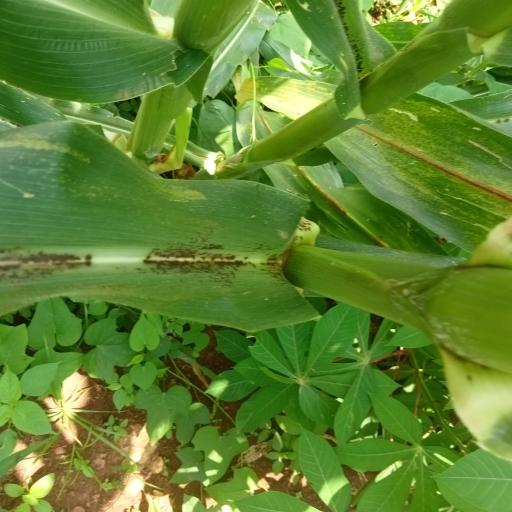Corn_Brown_Spots: (1, 127, 304, 330), (342, 86, 512, 248)
